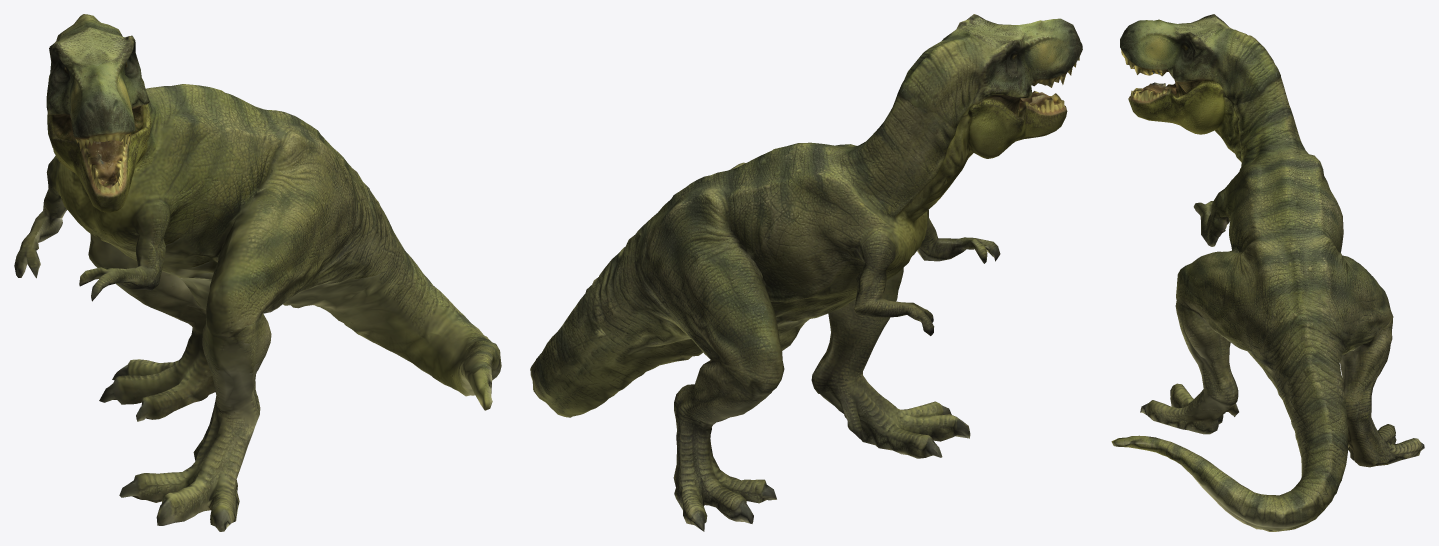
File: t-rex.fbx
The picture shows the model from 3 angles, left to right: view 1: azimuth 30°, elevation 25°; view 2: azimuth 150°, elevation 25°; view 3: azimuth 270°, elevation 25°; orthographic projection. The views are drawn at different scales.
Visible parts, largest first — view 1: TrexLowPolyFixed2_smoothed23; view 2: TrexLowPolyFixed2_smoothed23; view 3: TrexLowPolyFixed2_smoothed23.
Part boxes in pixels (bbox=[...]): TrexLowPolyFixed2_smoothed23: bbox=[14, 14, 501, 531]; TrexLowPolyFixed2_smoothed23: bbox=[530, 14, 1082, 531]; TrexLowPolyFixed2_smoothed23: bbox=[1111, 14, 1424, 531].
Bounding box in the file's own units: 470 × 444 × 345.
